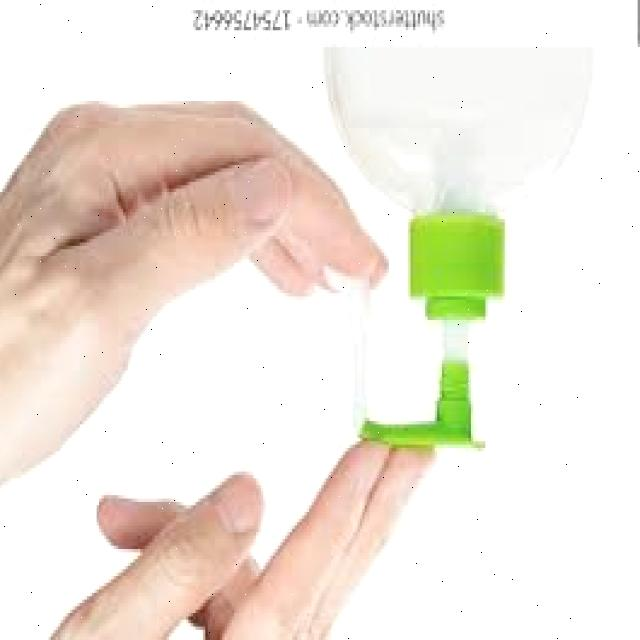liquid soap: (314, 38, 607, 460)
